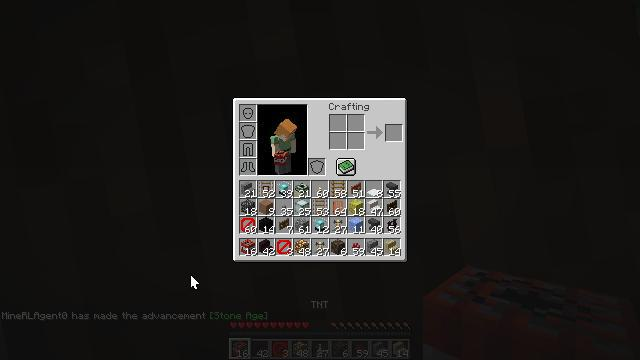cursor: (274, 190, 290, 200)
